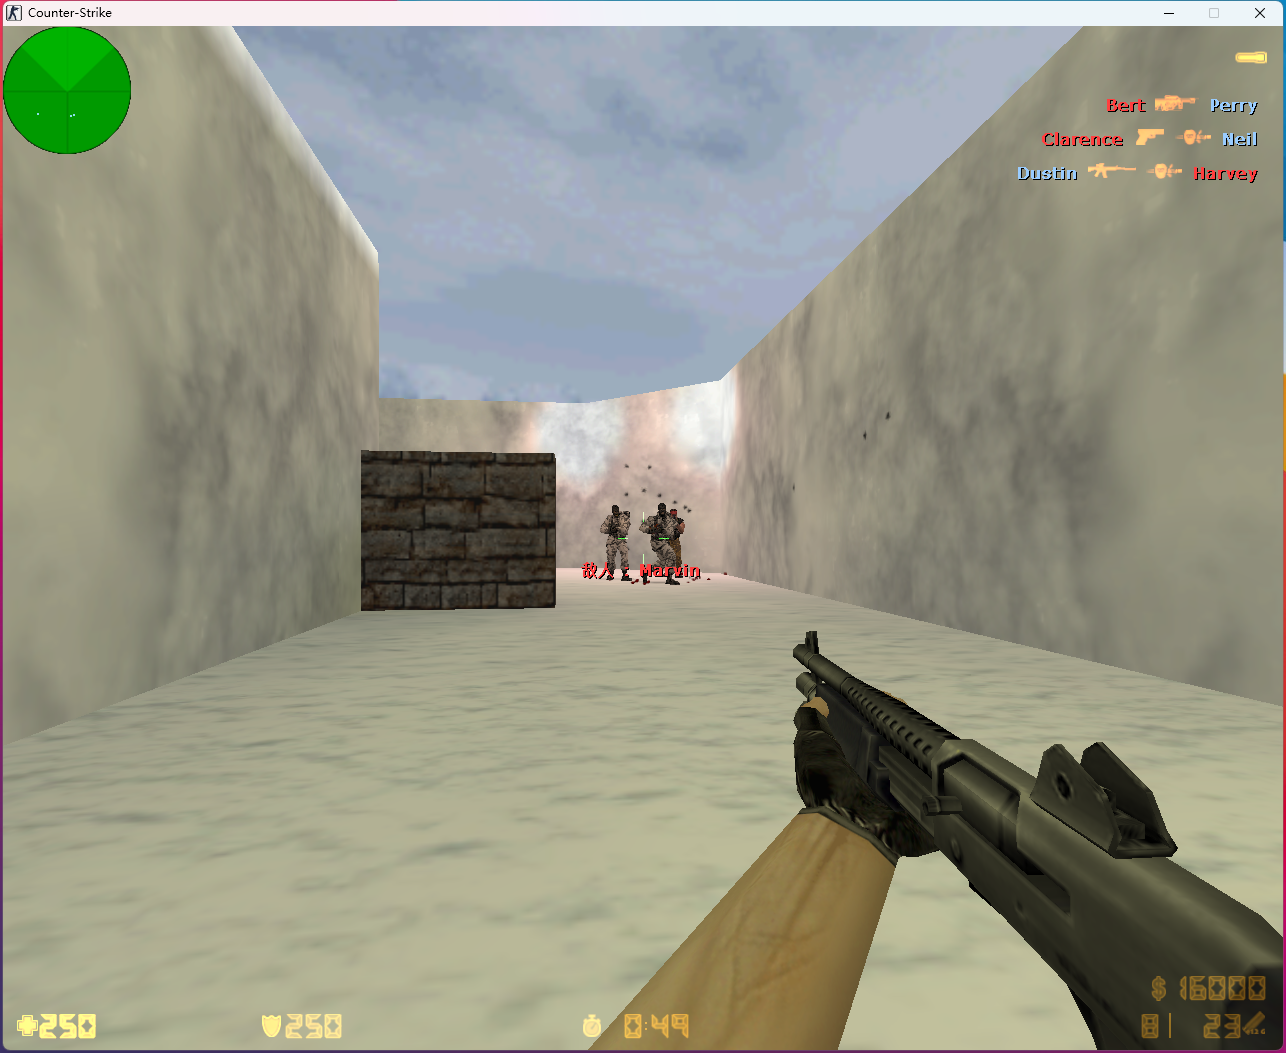T: (640, 503, 678, 583), (600, 503, 632, 582)
